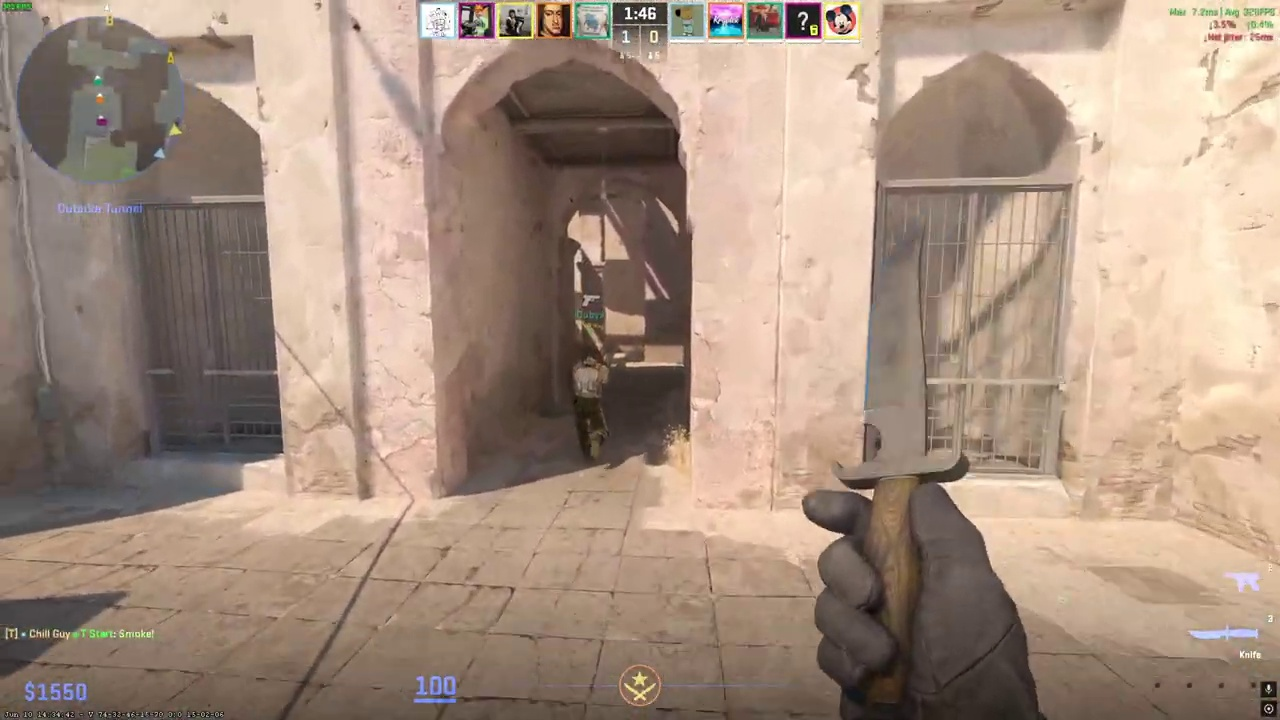Terrorist: (571, 348, 611, 461)
